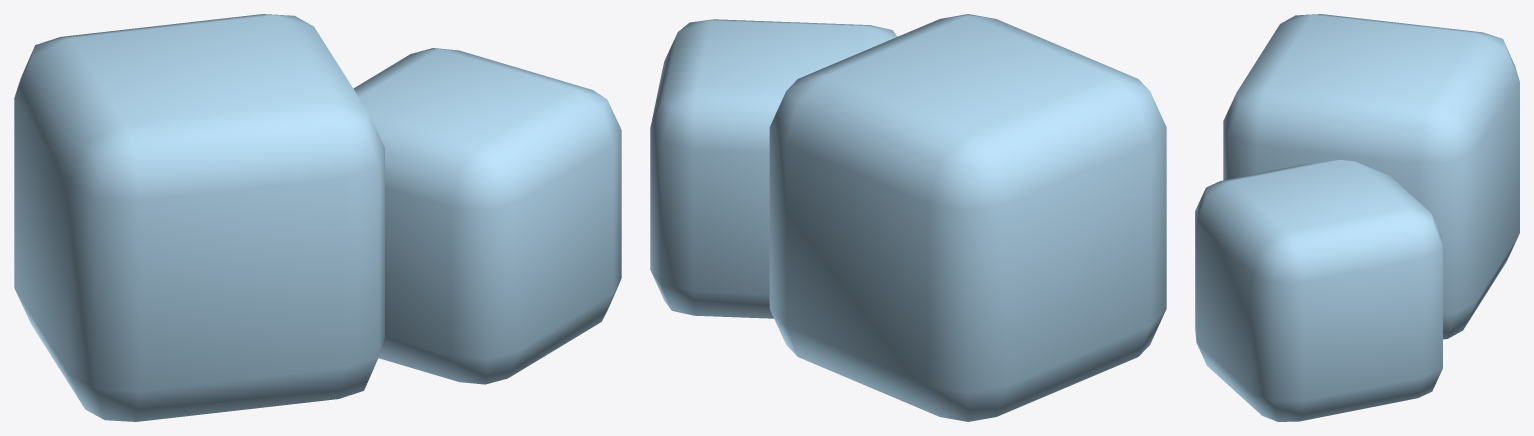
Rendered from Cafe_L1.fbx.
The picture shows the model from 3 angles, left to right: view 1: azimuth 30°, elevation 25°; view 2: azimuth 150°, elevation 25°; view 3: azimuth 270°, elevation 25°; orthographic projection. The views are drawn at different scales.
Visible parts, largest first — view 1: C1_IceA, C1_IceB; view 2: C1_IceA, C1_IceB; view 3: C1_IceB, C1_IceA.
Boxes of the visible parts, x1,y1,x2,y2 form: C1_IceA: [14, 14, 384, 421]; C1_IceB: [353, 48, 621, 384]; C1_IceA: [769, 14, 1166, 421]; C1_IceB: [650, 19, 897, 318]; C1_IceB: [1195, 160, 1442, 421]; C1_IceA: [1223, 14, 1519, 339].
Size of the model in its own units: 18.39 by 10 by 12.39.
